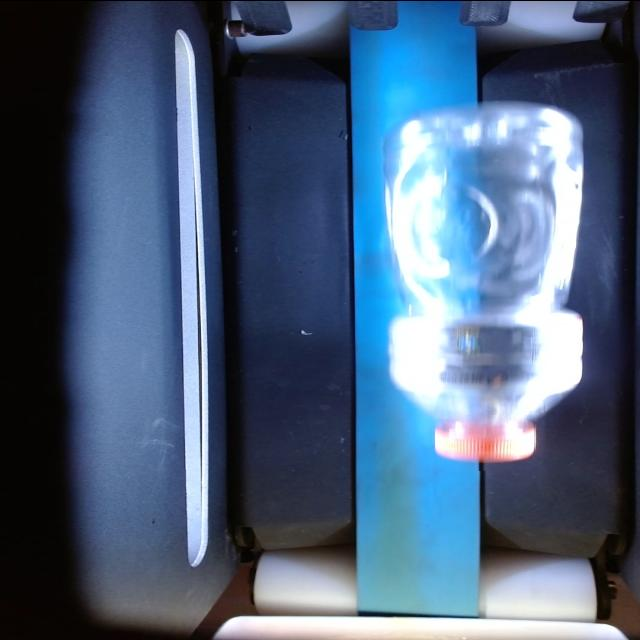bottom: (374, 98, 594, 162)
cap: (436, 414, 536, 469)
